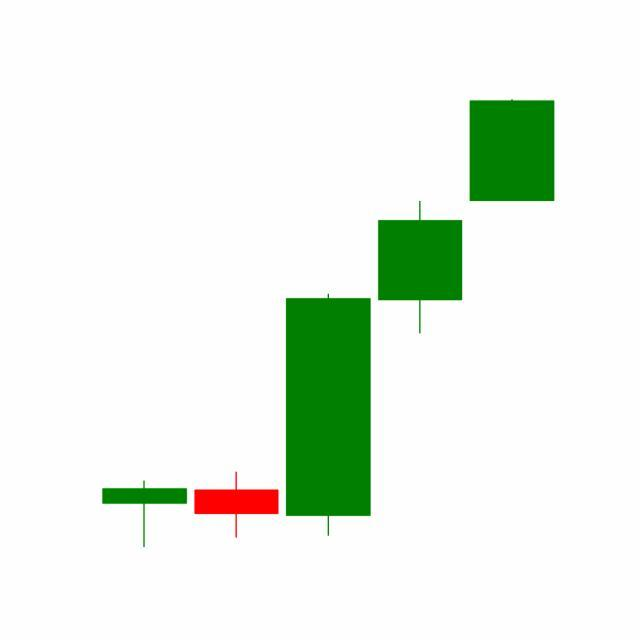Three Outside Up-Down: (190, 197, 467, 542)
